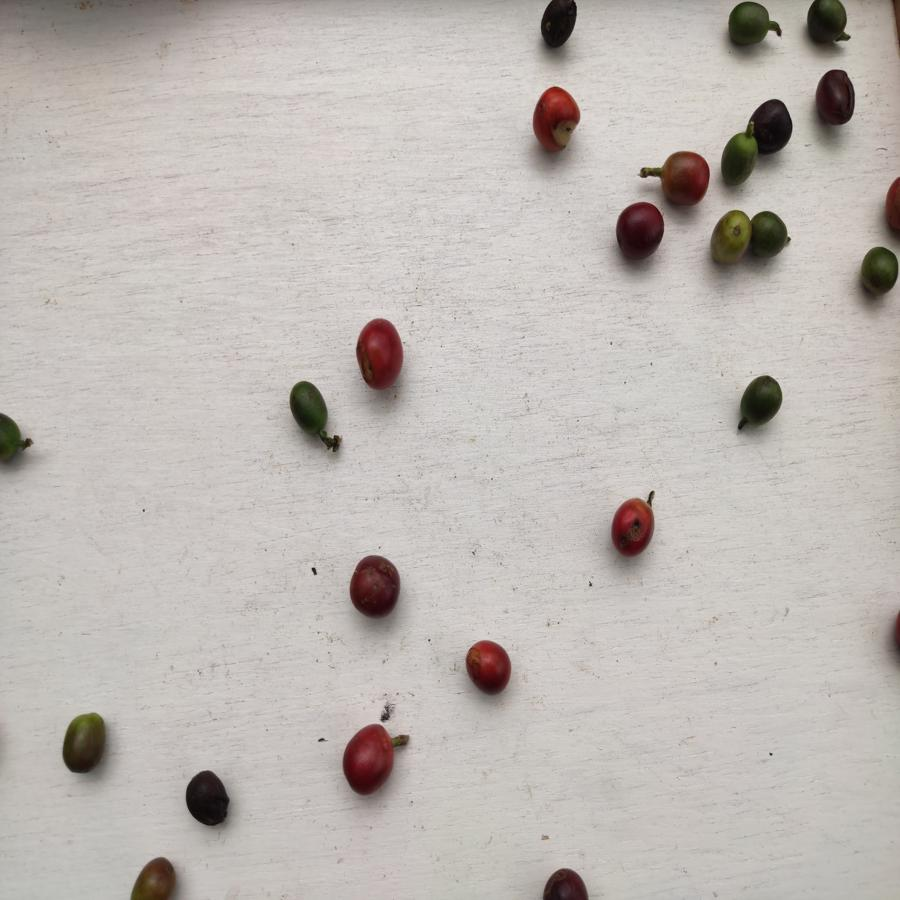Inmaduro: (288, 379, 331, 441), (859, 245, 900, 302), (741, 373, 785, 426), (727, 3, 772, 49), (753, 208, 790, 261), (807, 1, 848, 47), (721, 133, 756, 186), (1, 412, 31, 469)
Maduro: (342, 721, 397, 796), (353, 319, 407, 394), (526, 85, 581, 155), (458, 637, 515, 697), (609, 495, 657, 559), (662, 149, 711, 209)
Pinton: (62, 710, 110, 776), (129, 856, 184, 900), (710, 209, 751, 263)
Sobremaduro: (346, 555, 404, 618), (180, 768, 235, 829), (614, 202, 667, 262), (816, 67, 860, 133), (752, 98, 795, 157), (537, 862, 593, 900), (539, 1, 580, 51)
